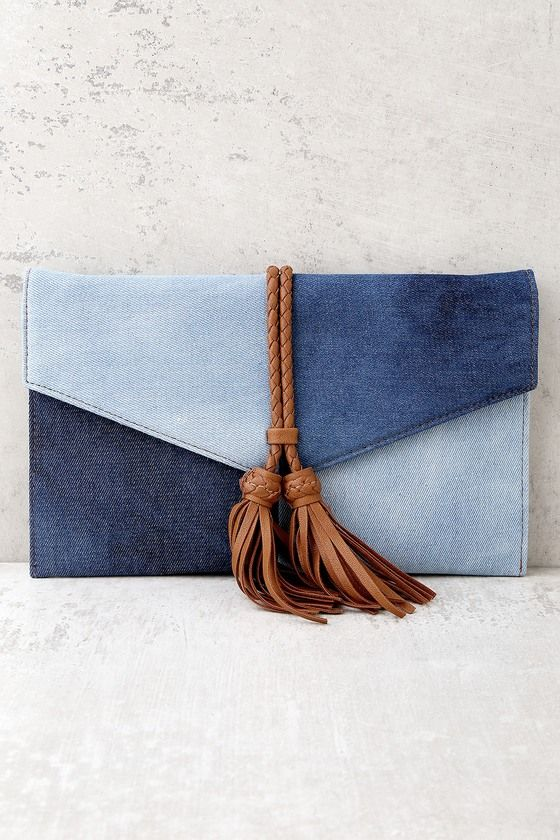cuero: (224, 263, 439, 626)
